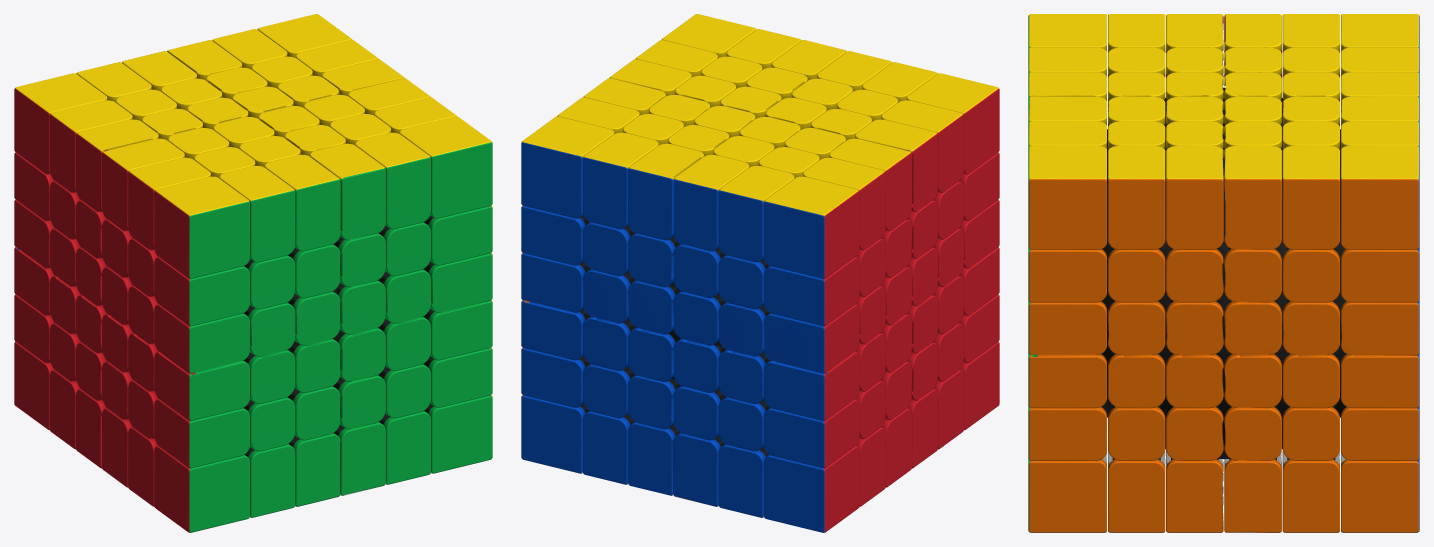
The picture shows the model from 3 angles, left to right: view 1: azimuth 30°, elevation 25°; view 2: azimuth 150°, elevation 25°; view 3: azimuth 270°, elevation 25°; orthographic projection. The views are drawn at different scales.
Visible parts, largest first — view 1: piece_-2.5,2.5,2.5, piece_-2.5,-2.5,2.5, piece_2.5,2.5,2.5, piece_-2.5,-0.5,2.5, piece_-2.5,1.5,2.5, piece_-2.5,-1.5,2.5, piece_-2.5,0.5,2.5, piece_0.5,2.5,2.5, piece_-1.5,2.5,2.5, piece_-0.5,2.5,2.5, piece_-2.5,2.5,-2.5, piece_1.5,2.5,2.5 (+79 smaller); view 2: piece_-2.5,2.5,-2.5, piece_-2.5,-2.5,-2.5, piece_2.5,2.5,-2.5, piece_-2.5,-0.5,-2.5, piece_-2.5,1.5,-2.5, piece_-2.5,-1.5,-2.5, piece_-2.5,0.5,-2.5, piece_-1.5,2.5,-2.5, piece_0.5,2.5,-2.5, piece_-2.5,2.5,2.5, piece_-0.5,2.5,-2.5, piece_1.5,2.5,-2.5 (+79 smaller); view 3: piece_2.5,2.5,-2.5, piece_2.5,2.5,2.5, piece_2.5,2.5,-1.5, piece_2.5,2.5,1.5, piece_2.5,2.5,0.5, piece_2.5,2.5,-0.5, piece_2.5,-2.5,2.5, piece_2.5,-2.5,-2.5, piece_2.5,-0.5,2.5, piece_2.5,-0.5,-2.5, piece_2.5,-2.5,-0.5, piece_2.5,0.5,-2.5 (+55 smaller).
Boxes of the visible parts, left/top/right/bottom form: piece_-2.5,2.5,2.5: left=154, top=176, right=249, bottom=278; piece_-2.5,-2.5,2.5: left=154, top=446, right=249, bottom=532; piece_2.5,2.5,2.5: left=399, top=116, right=492, bottom=218; piece_-2.5,-0.5,2.5: left=154, top=352, right=249, bottom=420; piece_-2.5,1.5,2.5: left=154, top=257, right=249, bottom=326; piece_-2.5,-1.5,2.5: left=154, top=399, right=249, bottom=468; piece_-2.5,0.5,2.5: left=154, top=304, right=249, bottom=373; piece_0.5,2.5,2.5: left=310, top=143, right=385, bottom=240; piece_-1.5,2.5,2.5: left=219, top=165, right=295, bottom=262; piece_-0.5,2.5,2.5: left=264, top=154, right=340, bottom=251; piece_-2.5,2.5,-2.5: left=14, top=73, right=107, bottom=174; piece_1.5,2.5,2.5: left=355, top=132, right=430, bottom=229; piece_-2.5,2.5,-2.5: left=764, top=176, right=859, bottom=278; piece_-2.5,-2.5,-2.5: left=764, top=446, right=859, bottom=532; piece_2.5,2.5,-2.5: left=521, top=116, right=614, bottom=218; piece_-2.5,-0.5,-2.5: left=764, top=352, right=859, bottom=420; piece_-2.5,1.5,-2.5: left=764, top=257, right=859, bottom=326; piece_-2.5,-1.5,-2.5: left=764, top=399, right=859, bottom=468; piece_-2.5,0.5,-2.5: left=764, top=304, right=859, bottom=373; piece_-1.5,2.5,-2.5: left=718, top=165, right=794, bottom=262; piece_0.5,2.5,-2.5: left=628, top=143, right=703, bottom=240; piece_-2.5,2.5,2.5: left=906, top=73, right=999, bottom=174; piece_-0.5,2.5,-2.5: left=673, top=154, right=749, bottom=251; piece_1.5,2.5,-2.5: left=583, top=132, right=658, bottom=229; piece_2.5,2.5,-2.5: left=1341, top=146, right=1419, bottom=249; piece_2.5,2.5,2.5: left=1028, top=146, right=1106, bottom=249; piece_2.5,2.5,-1.5: left=1282, top=146, right=1339, bottom=249; piece_2.5,2.5,1.5: left=1108, top=146, right=1165, bottom=249; piece_2.5,2.5,0.5: left=1166, top=146, right=1223, bottom=249; piece_2.5,2.5,-0.5: left=1224, top=146, right=1281, bottom=249; piece_2.5,-2.5,2.5: left=1028, top=459, right=1106, bottom=532; piece_2.5,-2.5,-2.5: left=1341, top=459, right=1419, bottom=532; piece_2.5,-0.5,2.5: left=1028, top=354, right=1106, bottom=408; piece_2.5,-0.5,-2.5: left=1341, top=354, right=1419, bottom=408; piece_2.5,-2.5,-0.5: left=1224, top=458, right=1281, bottom=532; piece_2.5,0.5,-2.5: left=1341, top=301, right=1419, bottom=355.
Bounding box in the file's own units: 2 × 2 × 2.
